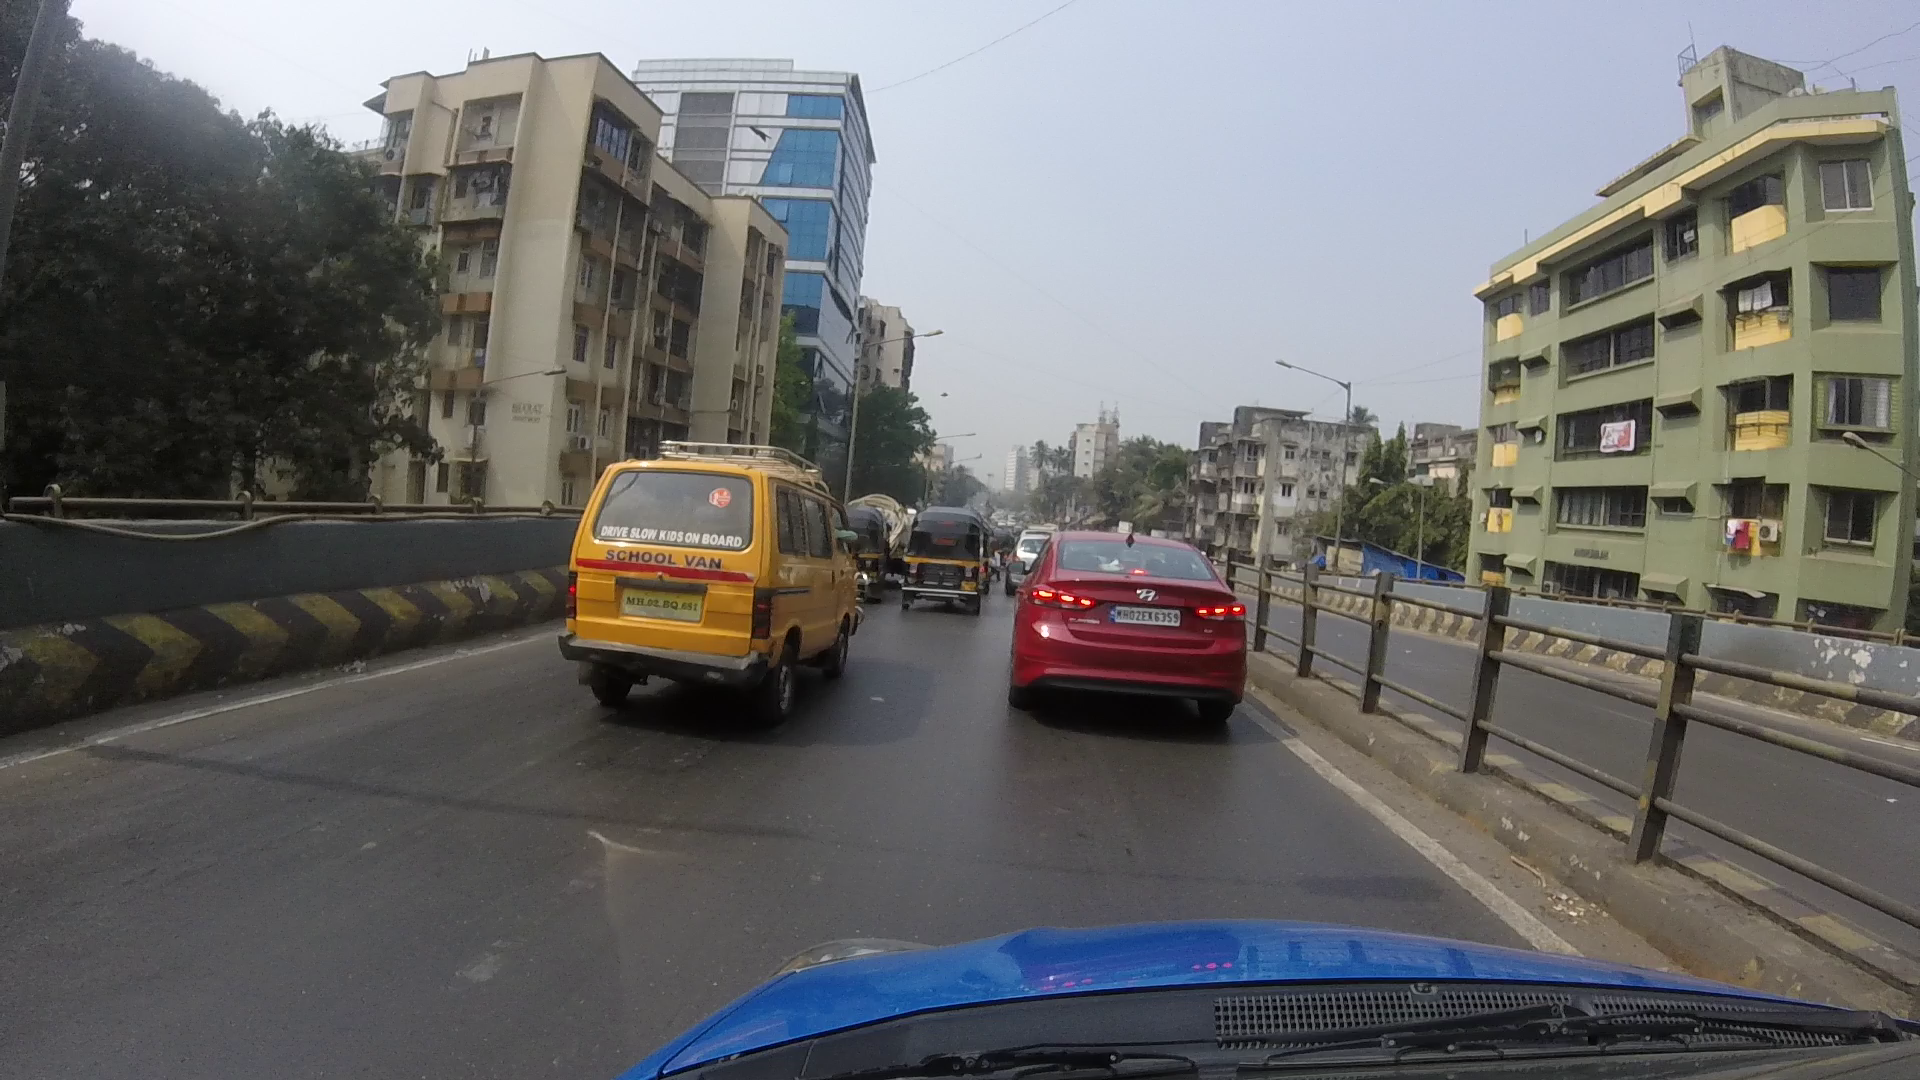car: (582, 413, 840, 719), (1029, 542, 1258, 695)
rickshaw: (905, 506, 996, 613)
